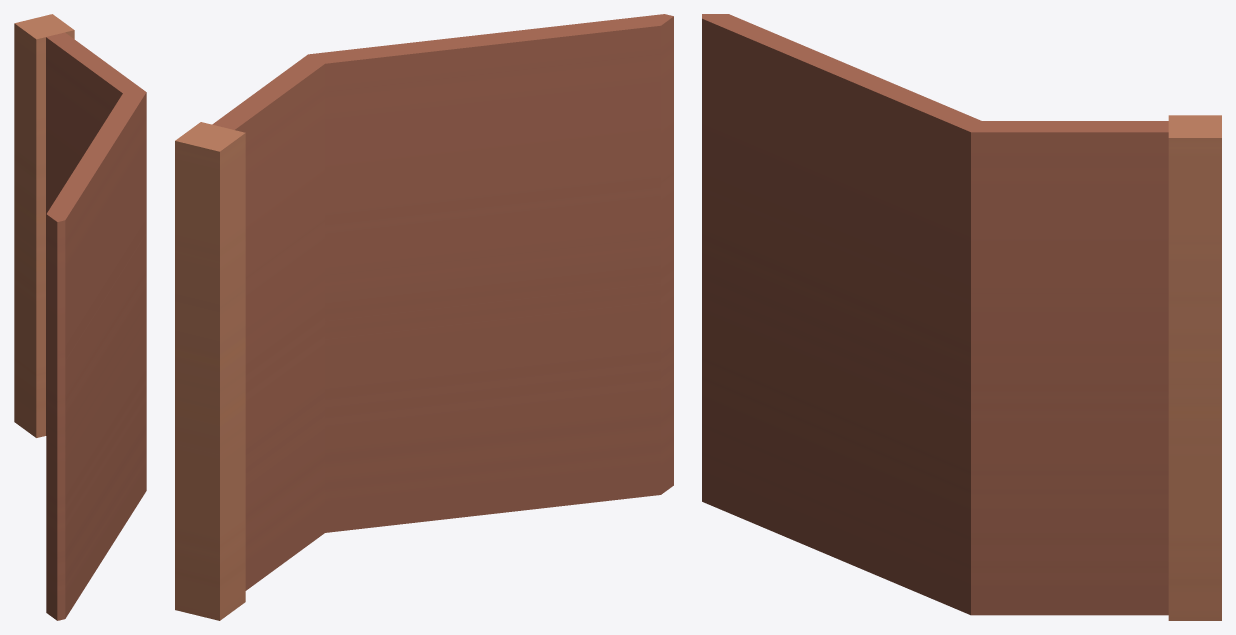
The model's file is wall-wood-corner-diagonal-half.fbx.
3 views of the same model, side by side, from view 1: azimuth 30°, elevation 25°; view 2: azimuth 150°, elevation 25°; view 3: azimuth 270°, elevation 25° (orthographic). The views are drawn at different scales.
Visible parts, largest first — view 1: wall-wood-corner-diagonal-half; view 2: wall-wood-corner-diagonal-half; view 3: wall-wood-corner-diagonal-half.
Boxes of the visible parts, bbox=[...] form: wall-wood-corner-diagonal-half: bbox=[14, 14, 146, 620]; wall-wood-corner-diagonal-half: bbox=[175, 14, 673, 620]; wall-wood-corner-diagonal-half: bbox=[702, 14, 1221, 620].
Size of the model in its own units: 55 by 100 by 97.5.
1 material, 1 textured.
